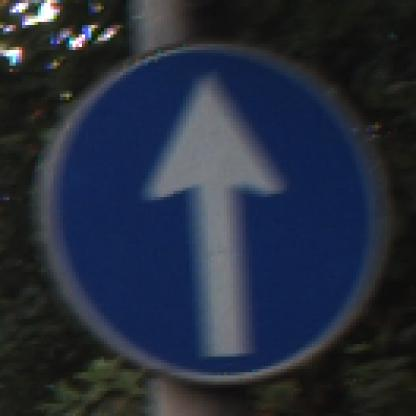AheadOnly: (39, 39, 382, 383)
